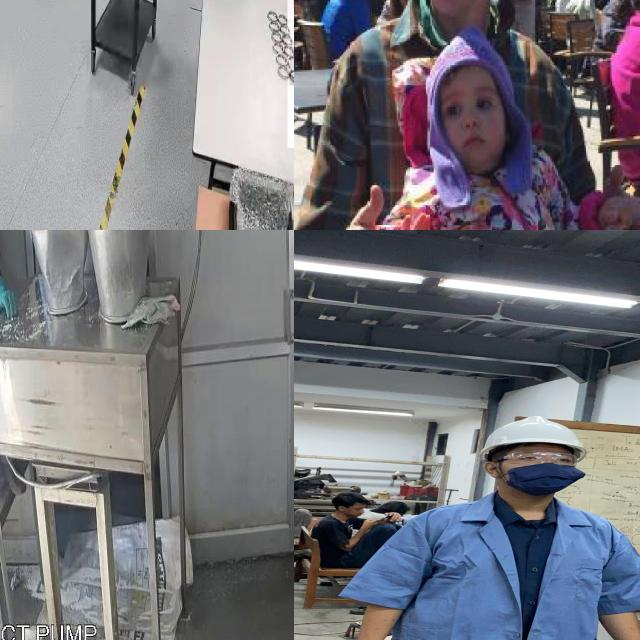No_Glasses: (436, 87, 502, 116)
face_mask: (498, 448, 581, 493)
face_nomask: (437, 93, 503, 155), (352, 504, 367, 517)
glasses: (490, 450, 580, 470)
hand_glove: (0, 287, 21, 323)
hand_noglove: (320, 183, 445, 230), (600, 161, 640, 230), (361, 517, 382, 528), (384, 511, 402, 522)
head_helmet: (476, 415, 588, 454)
head_nohelmet: (425, 32, 510, 85), (334, 491, 368, 506)
person: (294, 0, 640, 230), (317, 410, 640, 640), (314, 492, 400, 568), (294, 488, 316, 574)
